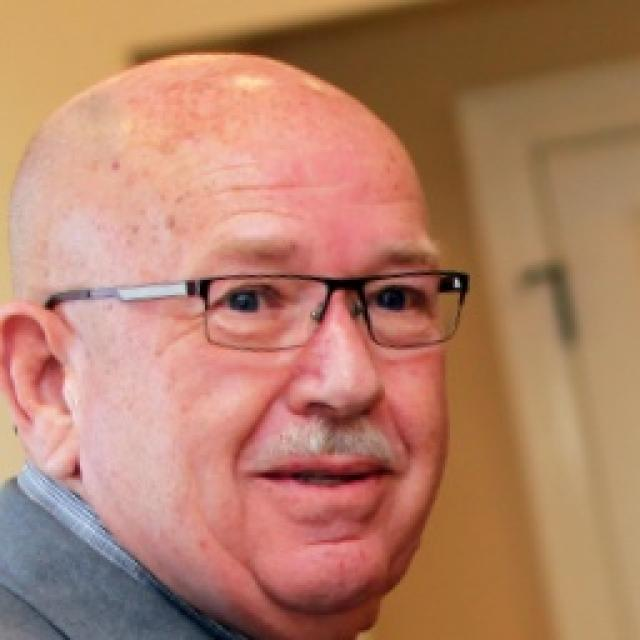glasses: (45, 265, 482, 360)
